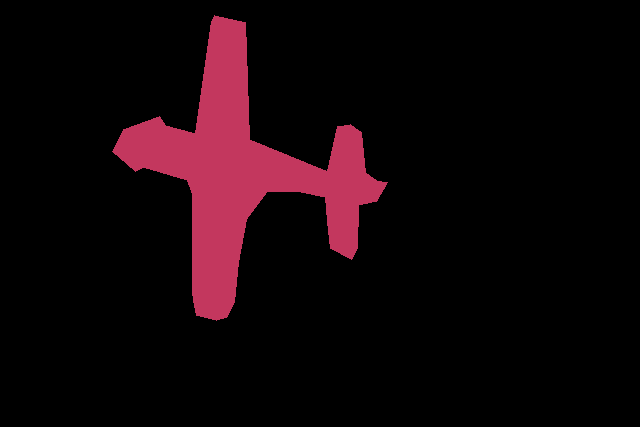Airplane: (112, 15, 388, 321)
